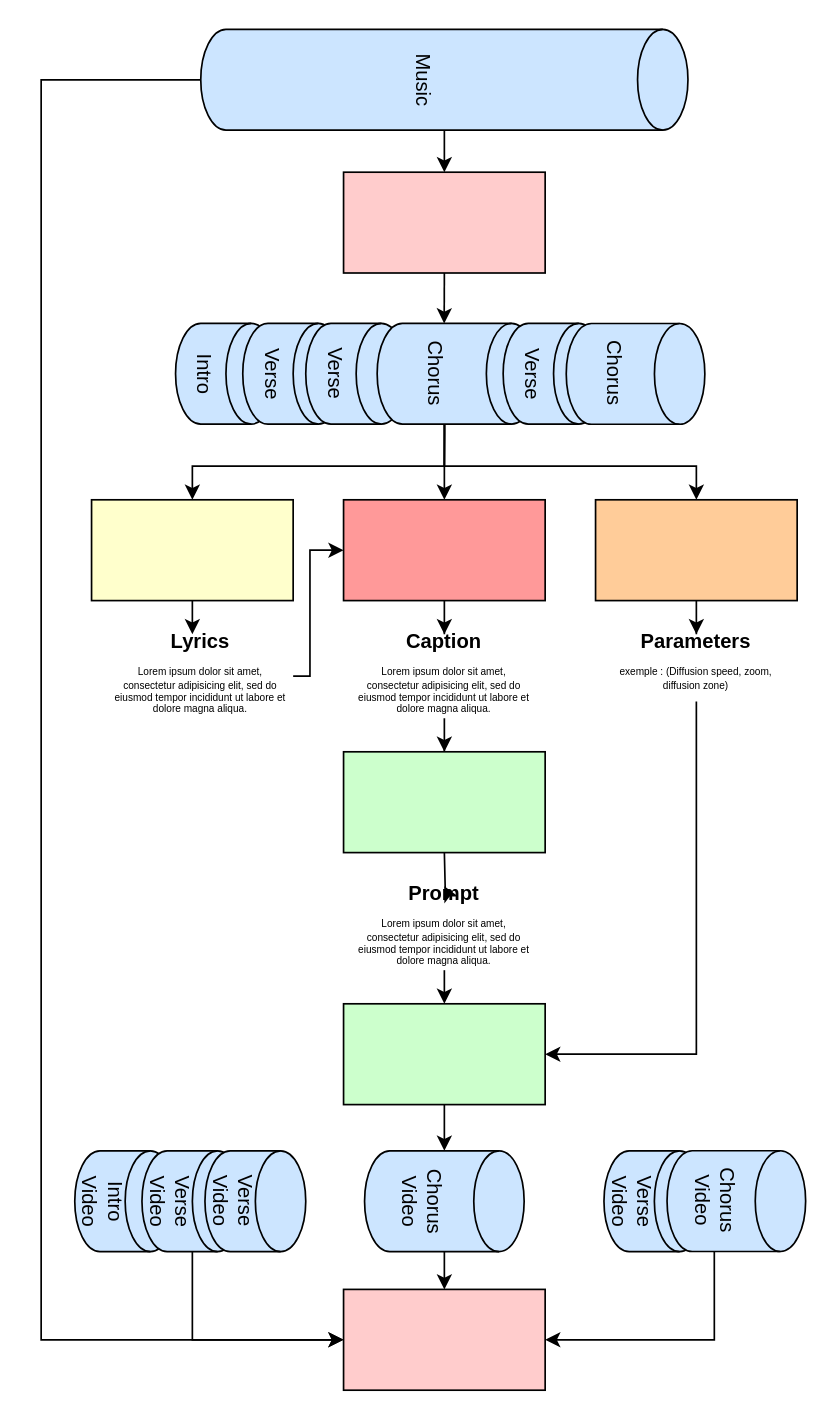
The diagram is 837 pixels wide and 1420 high, and some of its shapes have lost their labels. Each missing label, with the centre of its shape:
"Audio features extraction" goes at pixel 695 549.
"Audio to Caption" goes at pixel 443 549.
"Caption to Prompt" goes at pixel 443 801.
"Segmentation" goes at pixel 443 222.
"speech to text" goes at pixel 191 549.
"Stable Diffusion Video Generation" goes at pixel 443 1053.
"Video and audio reconstruction" goes at pixel 443 1339.
